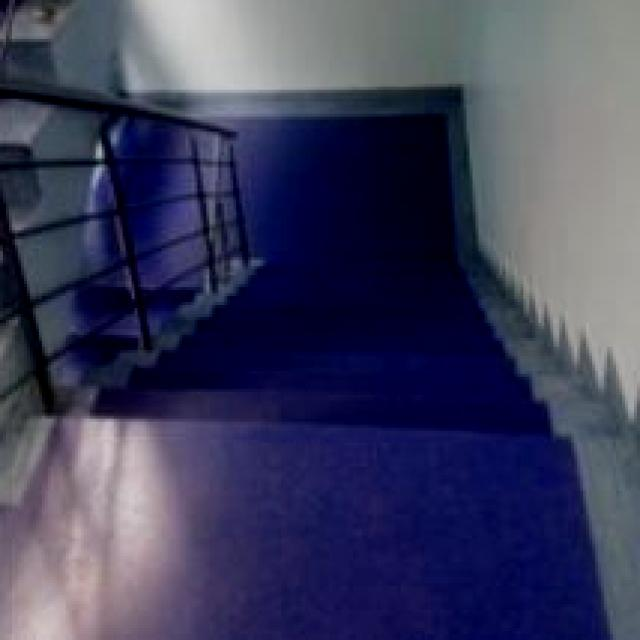downstair: (82, 309, 602, 515)
